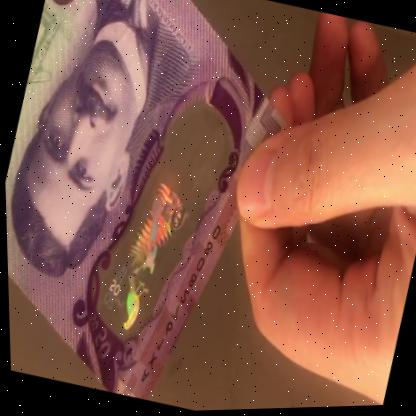50F: (89, 101, 217, 343)
